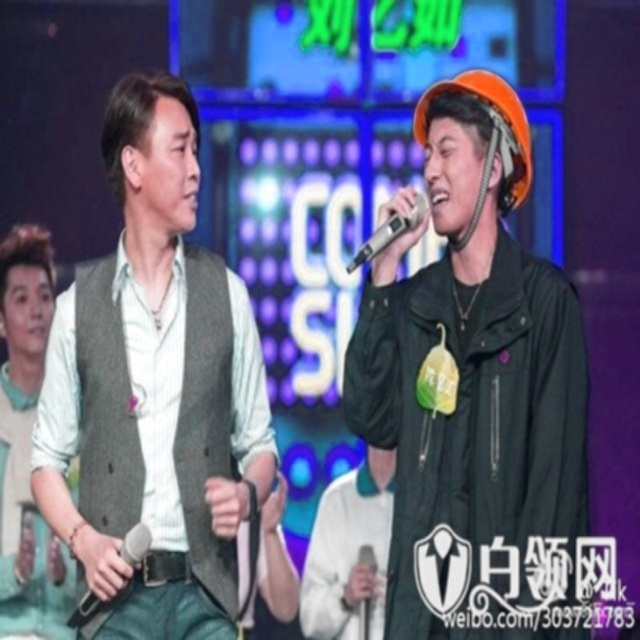Con_Casco: (412, 70, 531, 248)
Sin_Casco_Mascarrilla: (102, 70, 198, 236), (1, 228, 58, 361)
Sin_Chaleco: (69, 248, 238, 584), (405, 255, 577, 525)
